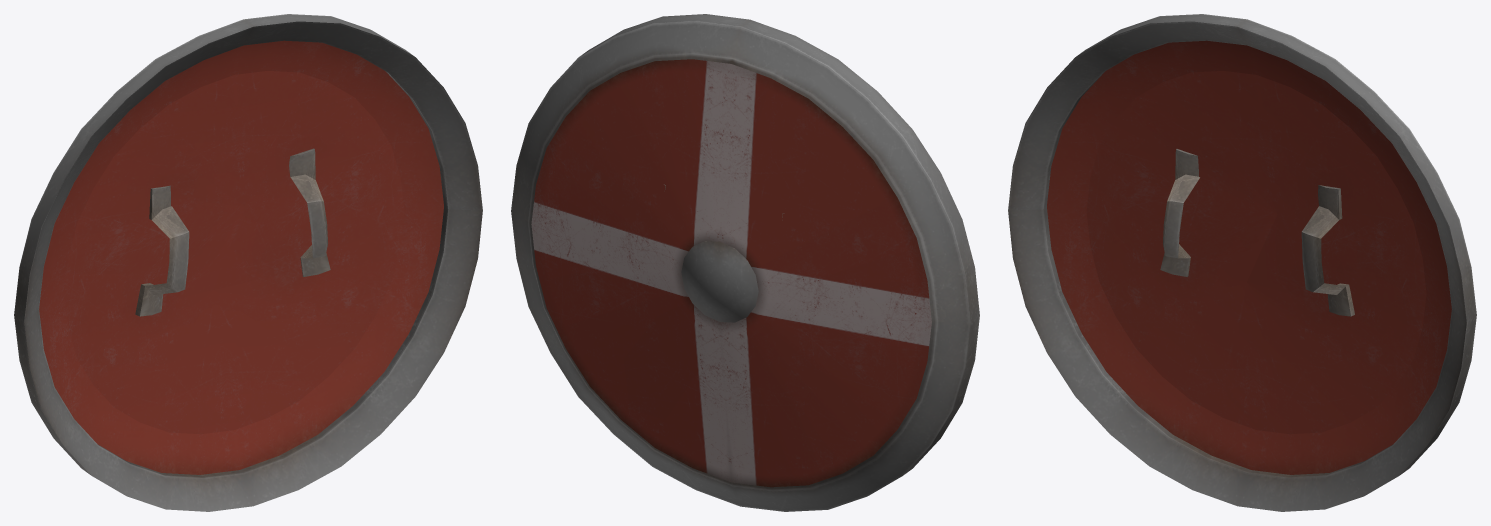
File: GAM0210019.fbx
3 renders of one model, left to right at view 1: azimuth 30°, elevation 25°; view 2: azimuth 150°, elevation 25°; view 3: azimuth 330°, elevation 25°, orthographic.
Visible parts, largest first — view 1: smGAM0210019; view 2: smGAM0210019; view 3: smGAM0210019.
Boxes of the visible parts, bbox=[...] form: smGAM0210019: bbox=[14, 14, 482, 511]; smGAM0210019: bbox=[511, 14, 979, 511]; smGAM0210019: bbox=[1008, 14, 1476, 511].
Bounding box in the file's own units: 69.04 × 68.95 × 9.03.
Materials: 1 (1 with a texture image).
